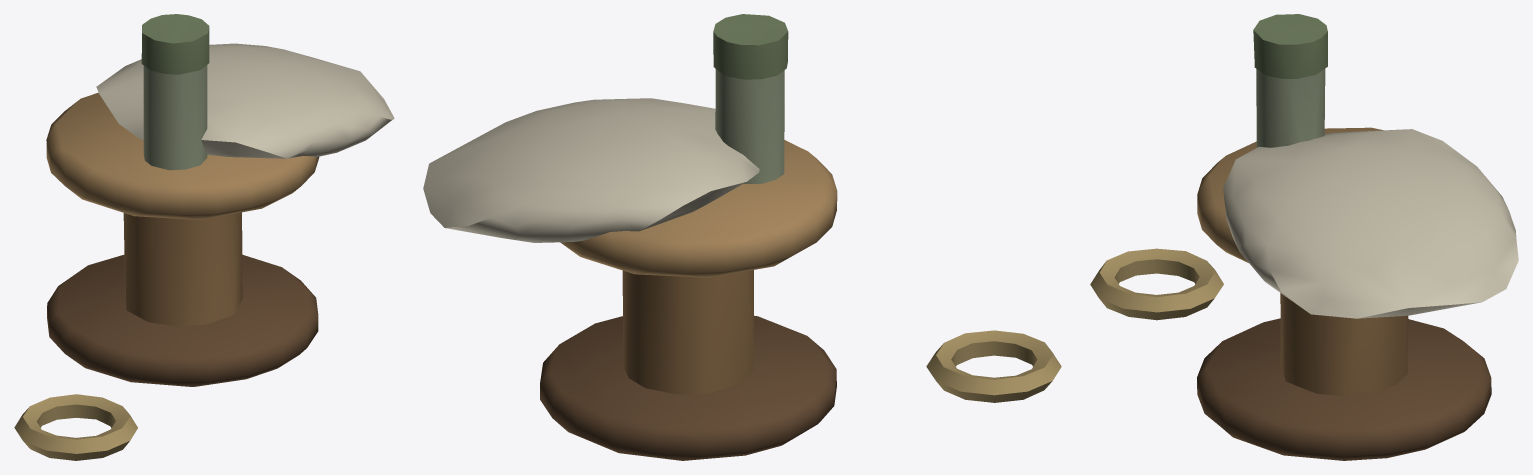
File: watch_stool_a_lod1.glb
The picture shows the model from 3 angles, left to right: view 1: azimuth 30°, elevation 25°; view 2: azimuth 150°, elevation 25°; view 3: azimuth 270°, elevation 25°; orthographic projection. The views are drawn at different scales.
Visible parts, largest first — view 1: Surface.001; view 2: Surface.001; view 3: Surface.001.
Part boxes in pixels (box(x1,y1,x2,y2)): Surface.001: box(14, 14, 394, 460); Surface.001: box(423, 14, 1061, 460); Surface.001: box(1090, 14, 1518, 460).
Size of the model in its own units: 2.12 by 1.47 by 1.6.
